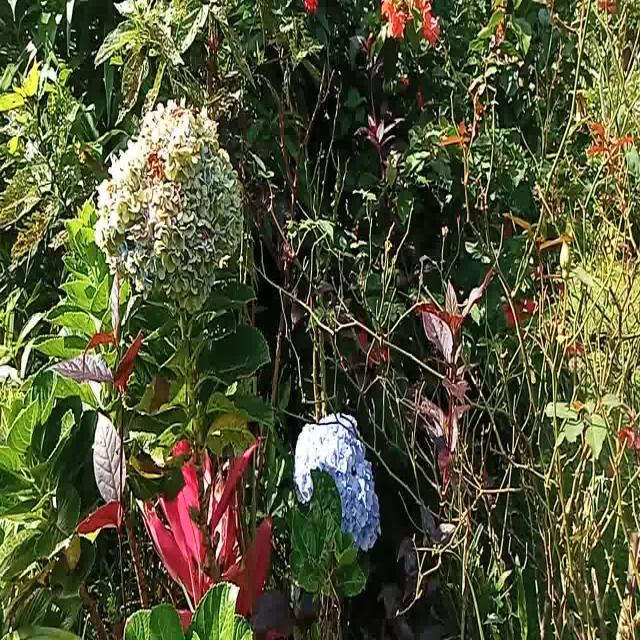Flower: (94, 99, 244, 301), (293, 401, 383, 548)
